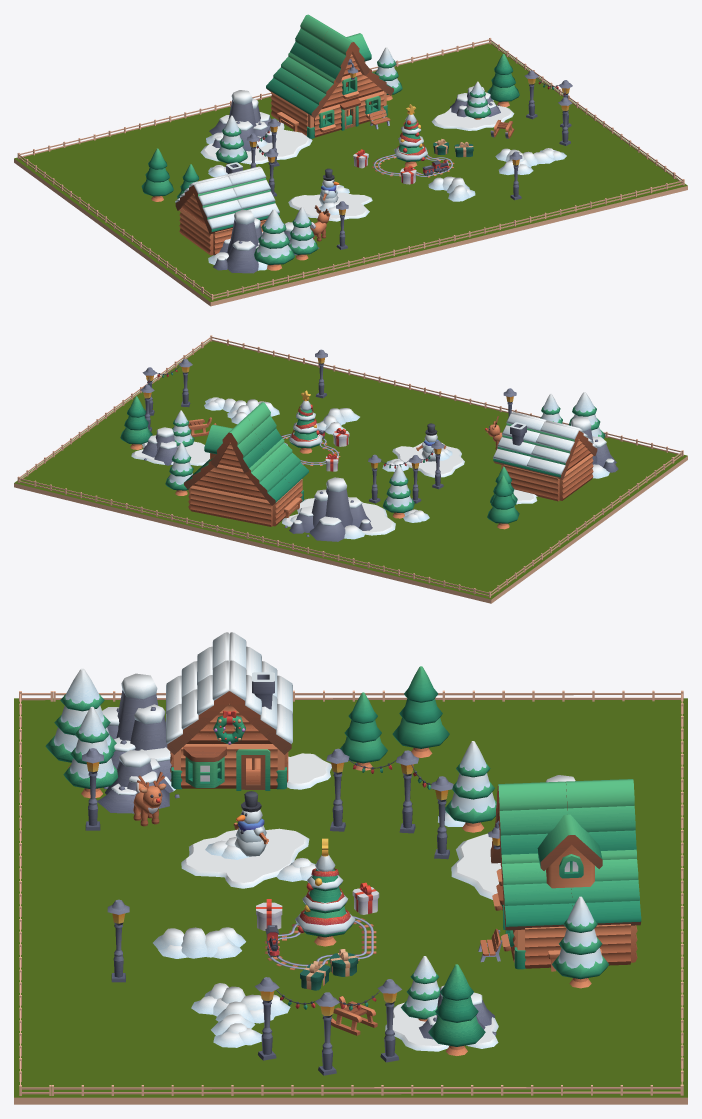
The model's file is Level1Map-v2.glb.
3 renders of one model, top to bottom at view 1: azimuth 30°, elevation 25°; view 2: azimuth 150°, elevation 25°; view 3: azimuth 270°, elevation 25°, orthographic. The views are drawn at different scales.
Parts seen in each view (by area): view 1: cliff_block_rock, rocks-large, rocks-large.001, cabin-roof-snow.001, cabin-roof-snow, cabin-roof-point, tree-snow-a.002, cabin-roof.002, snow-flat-large.002, snow-flat-large.001, cabin-roof.003, tree-decorated-snow.001 (+16 smaller); view 2: cliff_block_rock, rocks-large.001, cabin-roof-snow.002, cabin-roof-snow-chimney, cabin-roof-point.001, cabin-roof.003, tree-decorated-snow.001, snow-flat-large.001, rocks-large, tree.002, tree-snow-a.004, cabin-roof.002 (+18 smaller); view 3: cliff_block_rock, cabin-roof-point, rocks-large, cabin-roof-point.001, cabin-roof, snow-flat-large.001, cabin-roof.001, cabin-roof-dormer, cabin-roof-snow-chimney, tree-decorated-snow.001, cabin-roof-snow, tree-snow-a.003 (+35 smaller).
Part boxes in pixels (x1,y1,x2,y2): cliff_block_rock: (14,42,687,306); rocks-large: (208,209,267,273); rocks-large.001: (206,90,276,151); cabin-roof-snow.001: (193,176,241,234); cabin-roof-snow: (228,168,279,220); cabin-roof-point: (313,28,369,83); tree-snow-a.002: (254,209,294,270); cabin-roof.002: (289,66,339,118); snow-flat-large.002: (200,120,312,164); snow-flat-large.001: (288,192,372,221); cabin-roof.003: (266,52,312,102); tree-decorated-snow.001: (394,104,427,167); cliff_block_rock: (14,340,687,603); rocks-large.001: (284,477,372,541); cabin-roof-snow.002: (526,421,579,479); cabin-roof-snow-chimney: (493,413,544,470); cabin-roof-point.001: (211,417,265,472); cabin-roof.003: (245,453,292,505); tree-decorated-snow.001: (289,390,322,453); snow-flat-large.001: (392,442,464,477); rocks-large: (570,416,618,478); tree.002: (487,475,519,529); tree-snow-a.004: (382,465,414,518); cabin-roof.002: (266,438,308,487); cliff_block_rock: (14,698,687,1104); cabin-roof-point: (495,781,567,860); rocks-large: (102,673,175,791); cabin-roof-point.001: (565,779,636,850); cabin-roof: (501,853,572,930); snow-flat-large.001: (181,828,309,888); cabin-roof.001: (571,849,641,925); cabin-roof-dormer: (537,814,602,888); cabin-roof-snow-chimney: (229,660,292,754); tree-decorated-snow.001: (295,838,355,946); cabin-roof-snow: (166,660,229,754); tree-snow-a.003: (552,896,609,988).
Size of the model in its own units: 151 by 27.72 by 108.
Materials: 336 (122 with a texture image).
